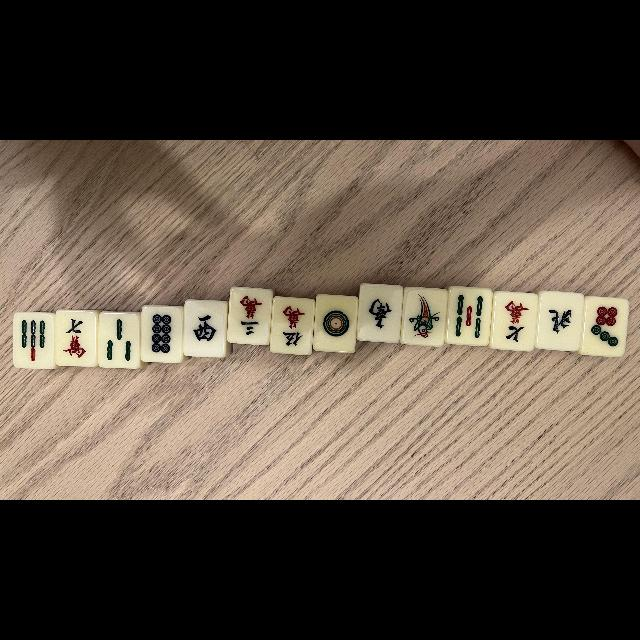b1: (402, 288, 446, 344)
b3: (100, 314, 138, 368)
b5: (449, 288, 489, 344)
b7: (14, 314, 54, 366)
c3: (230, 290, 270, 344)
c5: (273, 299, 311, 353)
c7: (492, 293, 534, 349), (56, 311, 96, 365)
d1: (315, 296, 355, 350)
d7: (584, 298, 626, 354)
d8: (142, 308, 182, 360)
wn: (540, 292, 582, 348)
ws: (360, 284, 400, 340)
ww: (185, 301, 225, 355)
